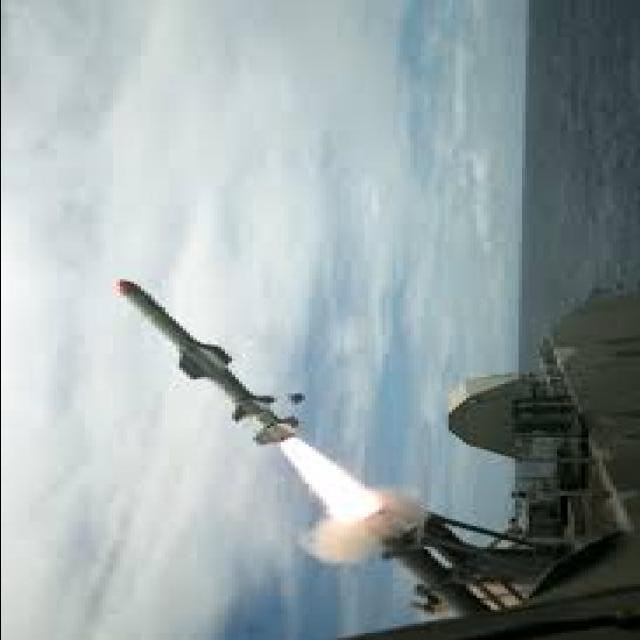missile: (116, 273, 306, 451)
